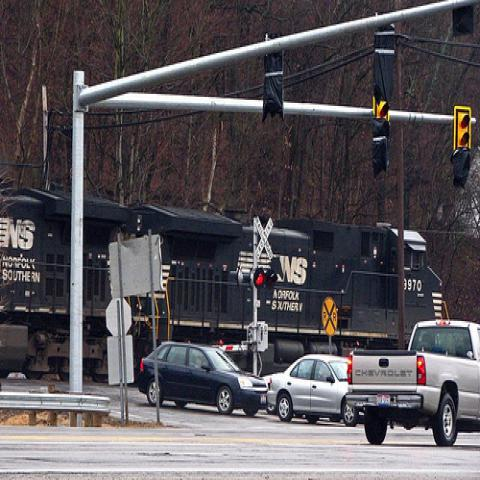car: (138, 341, 270, 419), (267, 354, 357, 428), (262, 373, 282, 415)
truck: (345, 320, 479, 450)
